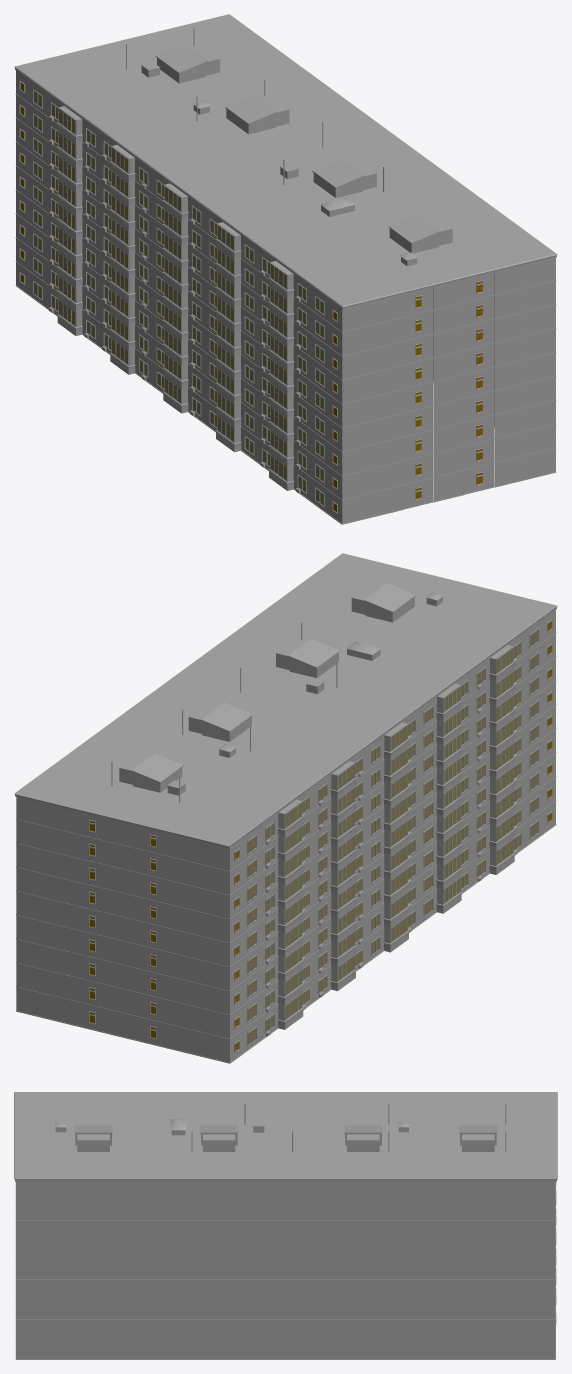
The model's file is Building.fbx.
3 renders of one model, top to bottom at view 1: azimuth 30°, elevation 25°; view 2: azimuth 150°, elevation 25°; view 3: azimuth 270°, elevation 25°, orthographic. The views are drawn at different scales.
Visible parts, largest first — view 1: G_New_Building; view 2: G_New_Building; view 3: G_New_Building.
Part boxes in pixels (left/top/right/bottom): G_New_Building: left=14, top=14, right=557, bottom=524; G_New_Building: left=14, top=553, right=557, bottom=1063; G_New_Building: left=14, top=1092, right=557, bottom=1359.
Bounding box in the file's own units: 2905 × 3053 × 7460.
